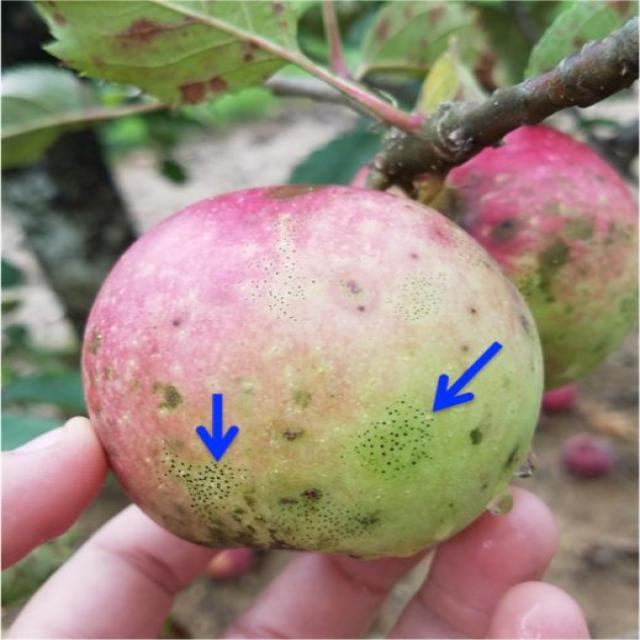Rotten Apple: (60, 158, 584, 586)
